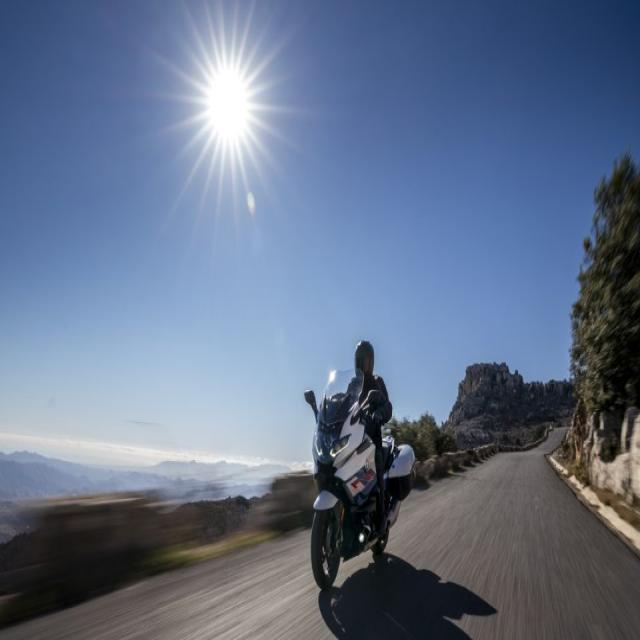MOTORCYCLE: (304, 371, 400, 585)
